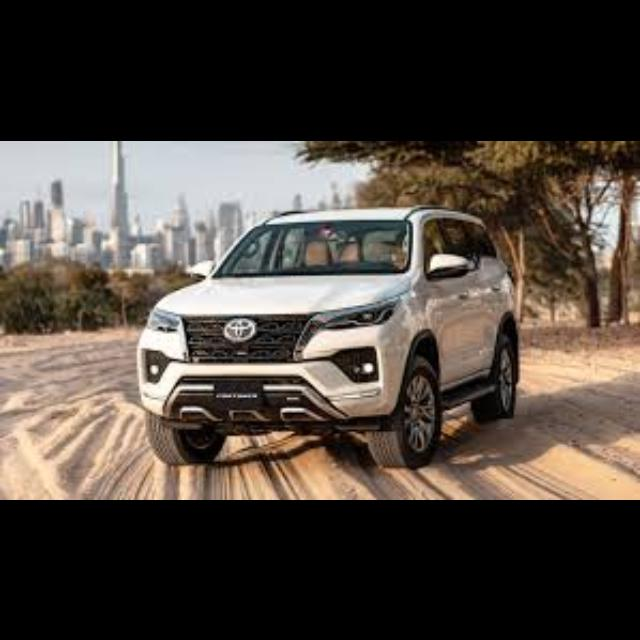vehicles: (128, 200, 524, 474)
